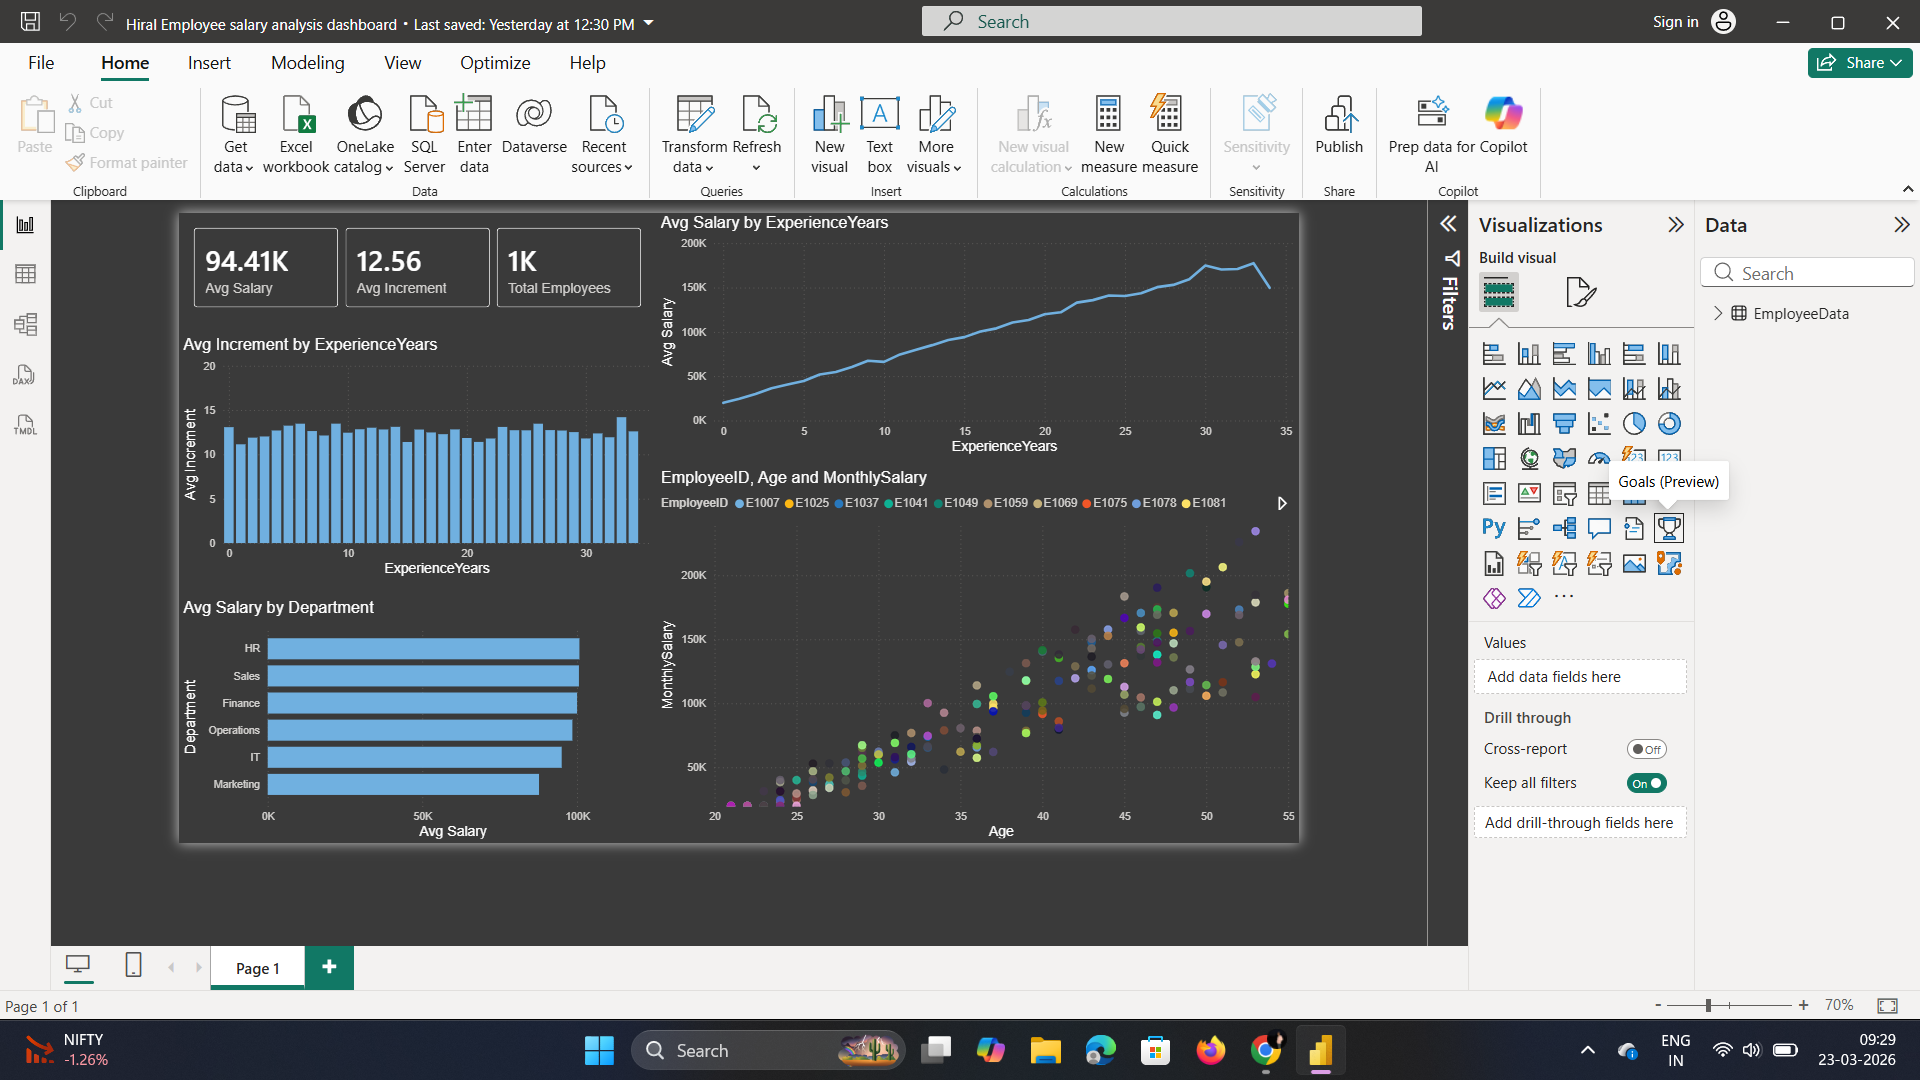

The page's visual inventory and layout, read from the dashboard file:
{"tool":"powerbi","page":{"name":"Page 1","canvas":[1280,720],"ordinal":0},"visuals":[{"type":"cardVisual","fields":{"Data":["EmployeeData.Avg Salary","EmployeeData.Avg Increment","EmployeeData.Total Employees"]},"box":[0,0,545.7,125.7],"z":0},{"type":"lineChart","fields":{"Category":["EmployeeData.ExperienceYears"],"Y":["EmployeeData.Avg Salary"]},"box":[545.7,0,734.3,280],"z":1000},{"type":"barChart","fields":{"Category":["EmployeeData.Department"],"Y":["EmployeeData.Avg Salary"]},"box":[0,440,545.7,280],"z":2000},{"type":"columnChart","fields":{"Category":["EmployeeData.ExperienceYears"],"Y":["EmployeeData.Avg Increment"]},"box":[0,140,545.7,280],"z":3000},{"type":"scatterChart","fields":{"X":["EmployeeData.Age"],"Y":["EmployeeData.MonthlySalary"],"Series":["EmployeeData.EmployeeID"]},"box":[545.7,291.4,734.3,428.6],"z":4000}]}

Visuals, with their boxes on the page's 1280x720 design canvas (x1, y1, x2, y2). These are canvas units, not pixel positions in the 1920x1080 screenshot, which may show the page scaled, cropped or inside an application window:
cardVisual - EmployeeData.Avg Salary x EmployeeData.Avg Increment: x1=0 y1=0 x2=546 y2=126
lineChart - EmployeeData.ExperienceYears x EmployeeData.Avg Salary: x1=546 y1=0 x2=1280 y2=280
barChart - EmployeeData.Department x EmployeeData.Avg Salary: x1=0 y1=440 x2=546 y2=720
columnChart - EmployeeData.ExperienceYears x EmployeeData.Avg Increment: x1=0 y1=140 x2=546 y2=420
scatterChart - EmployeeData.Age x EmployeeData.MonthlySalary: x1=546 y1=291 x2=1280 y2=720
